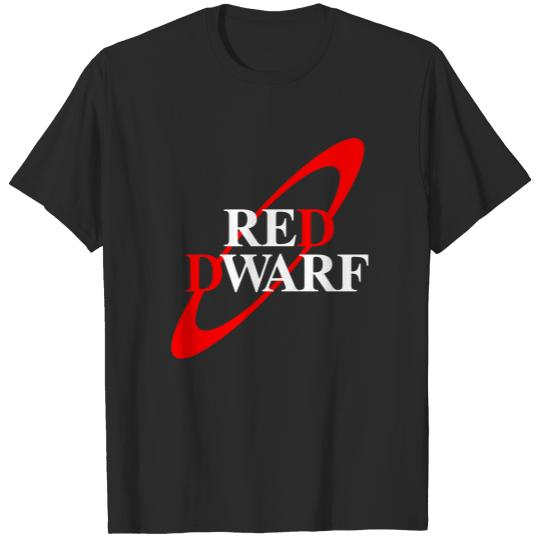design: (167, 134, 371, 361)
